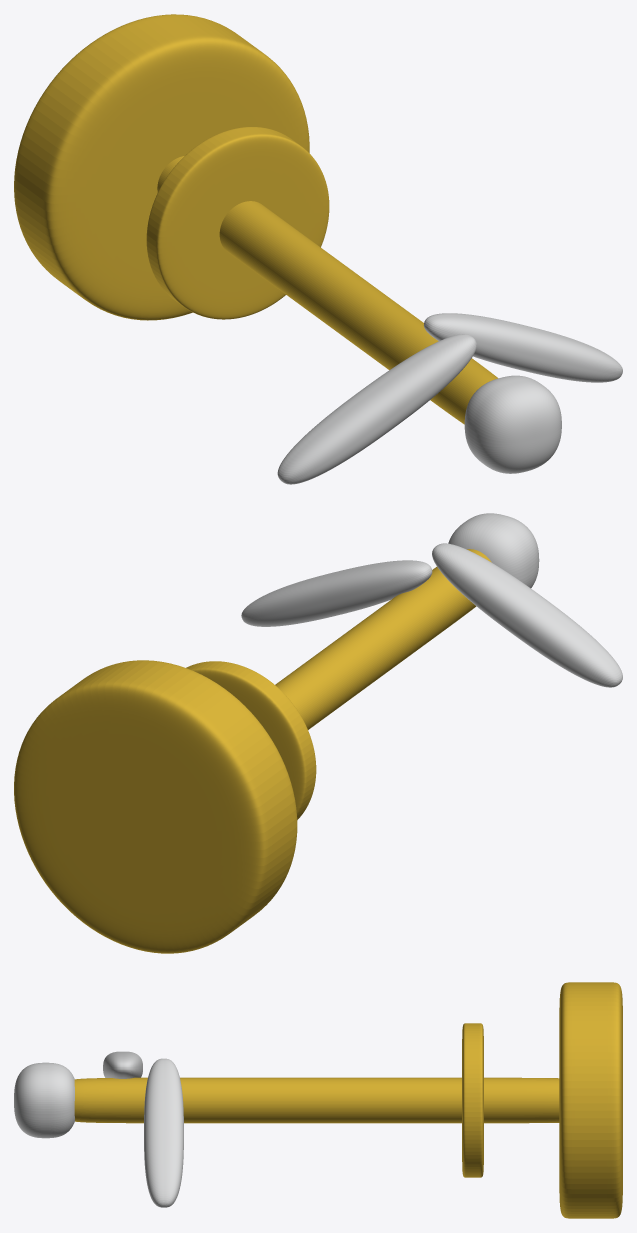
Rendered from standing_coat_rack_sq.glb.
3 views of the same model, one above another, from view 1: azimuth 30°, elevation 25°; view 2: azimuth 150°, elevation 25°; view 3: azimuth 270°, elevation 25° (orthographic). The views are drawn at different scales.
Parts seen in each view (by area): view 1: superquadric_0, superquadric_5, superquadric_1, superquadric_3, superquadric_2, superquadric_4; view 2: superquadric_0, superquadric_1, superquadric_3, superquadric_4, superquadric_5, superquadric_2; view 3: superquadric_1, superquadric_0, superquadric_4, superquadric_2, superquadric_5, superquadric_3.
Boxes of the visible parts, x1,y1,x2,y2 form: superquadric_0: [14, 14, 309, 320]; superquadric_5: [146, 127, 329, 319]; superquadric_1: [157, 156, 497, 424]; superquadric_3: [277, 334, 476, 484]; superquadric_2: [464, 375, 561, 473]; superquadric_4: [423, 313, 622, 382]; superquadric_0: [14, 660, 297, 953]; superquadric_1: [275, 549, 491, 729]; superquadric_3: [432, 543, 622, 687]; superquadric_4: [241, 560, 432, 626]; superquadric_5: [186, 661, 316, 819]; superquadric_2: [448, 513, 539, 588]; superquadric_1: [74, 1077, 559, 1123]; superquadric_0: [559, 982, 622, 1218]; superquadric_4: [144, 1058, 183, 1207]; superquadric_2: [14, 1062, 74, 1138]; superquadric_5: [462, 1023, 483, 1177]; superquadric_3: [103, 1051, 142, 1078].
Size of the model in its own units: 0.5397 by 0.388 by 1.
